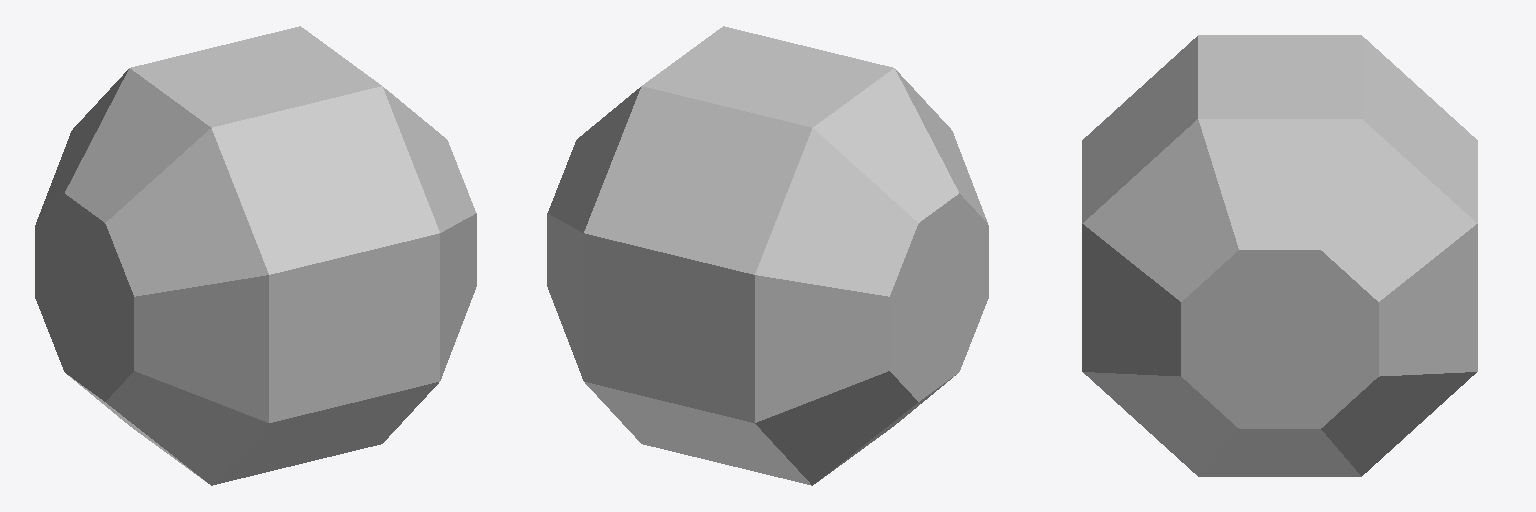
Rendered from RTG.obj.
3 renders of one model, left to right at view 1: azimuth 30°, elevation 25°; view 2: azimuth 150°, elevation 25°; view 3: azimuth 270°, elevation 25°, orthographic.
Visible parts, largest first — view 1: Cylinder; view 2: Cylinder; view 3: Cylinder.
Part boxes in pixels (x1,y1,x2,y2): Cylinder: (35,26,476,485); Cylinder: (547,26,988,485); Cylinder: (1082,35,1477,476).
Bounding box in the file's own units: 2 × 2 × 2.